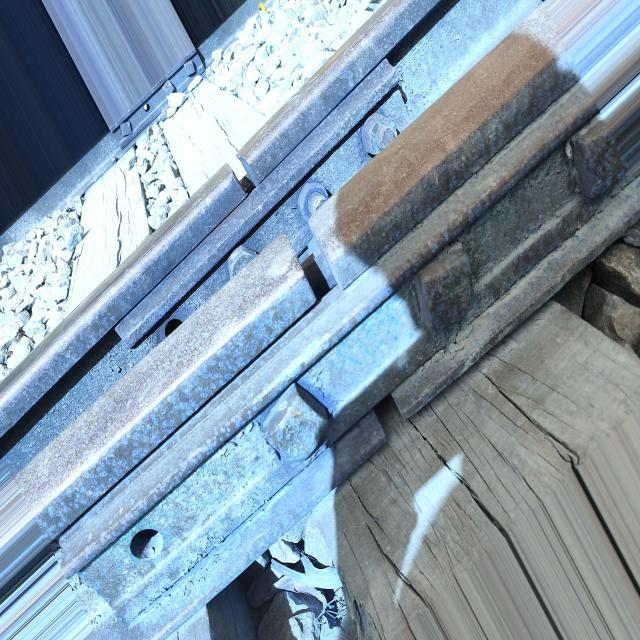Defective Joint: (60, 107, 583, 623)
